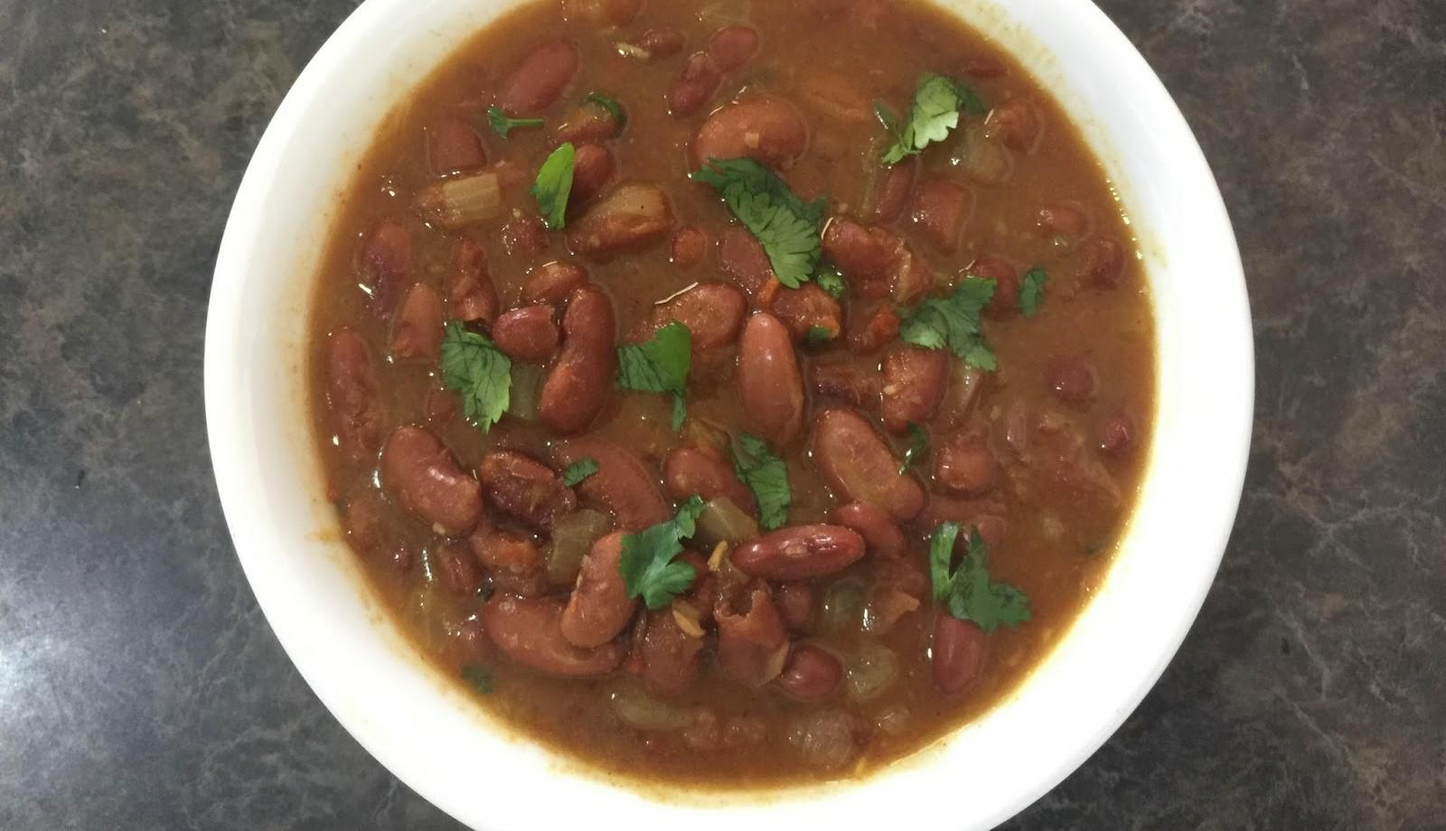RajmaCurry: (315, 0, 1148, 790)
